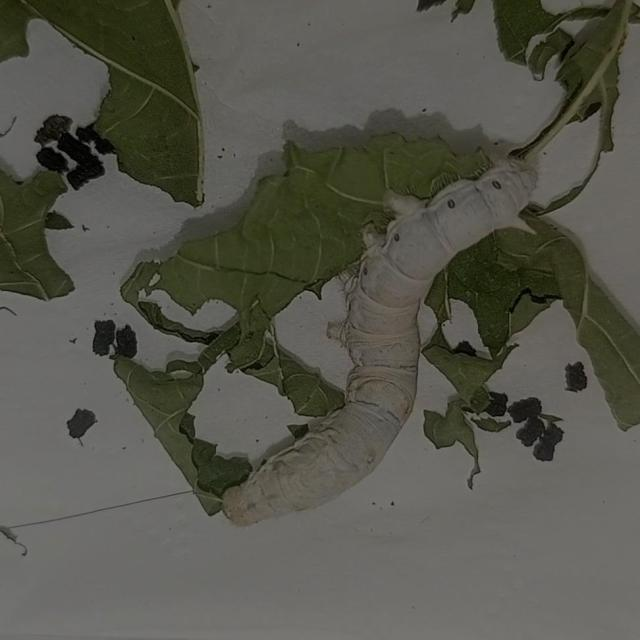Healthy: (186, 135, 554, 564)
